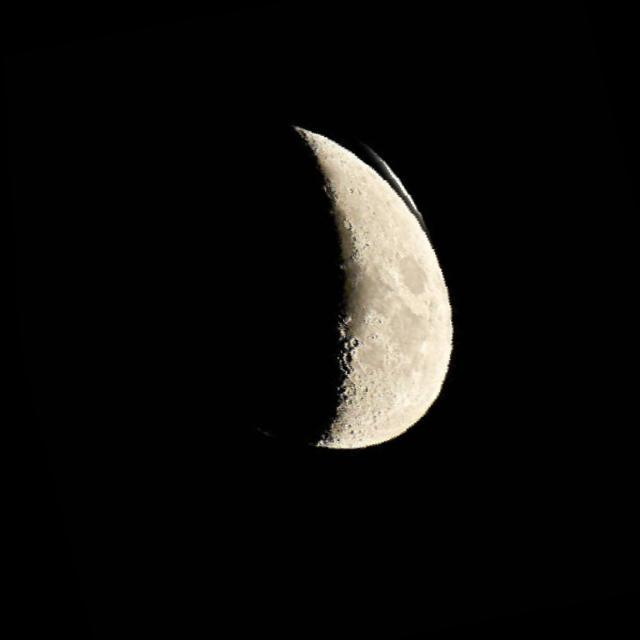moon: (101, 71, 504, 512)
